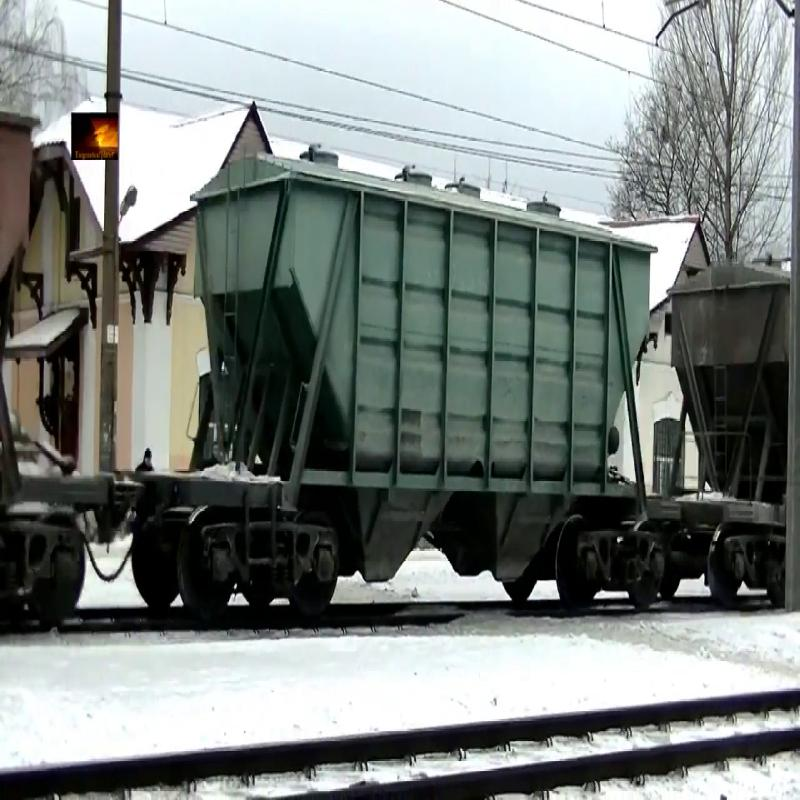train: (195, 168, 659, 616)
